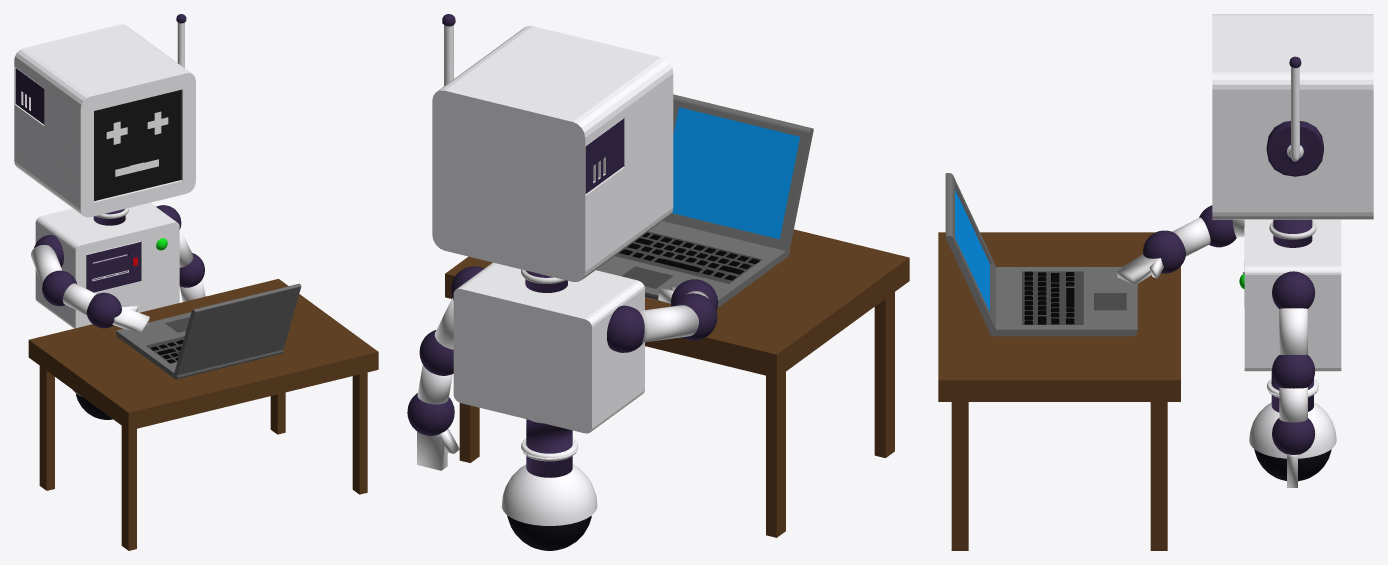
The model's file is robot.glb.
3 views of the same model, side by side, from view 1: azimuth 30°, elevation 25°; view 2: azimuth 150°, elevation 25°; view 3: azimuth 270°, elevation 25° (orthographic). The views are drawn at different scales.
Parts seen in each view (by area): view 1: robot, table, laptop; view 2: robot, table, laptop; view 3: robot, table, laptop.
Boxes of the visible parts, box(x1,y1,x2,y2) form: robot: box(14, 14, 205, 419); table: box(28, 279, 378, 550); laptop: box(116, 283, 301, 379); robot: box(407, 14, 718, 550); table: box(445, 229, 909, 537); laptop: box(596, 94, 813, 307); robot: box(1116, 14, 1373, 487); table: box(938, 232, 1180, 550); laptop: box(945, 173, 1137, 336).
Bounding box in the file's own units: 2 × 2.94 × 2.48.
